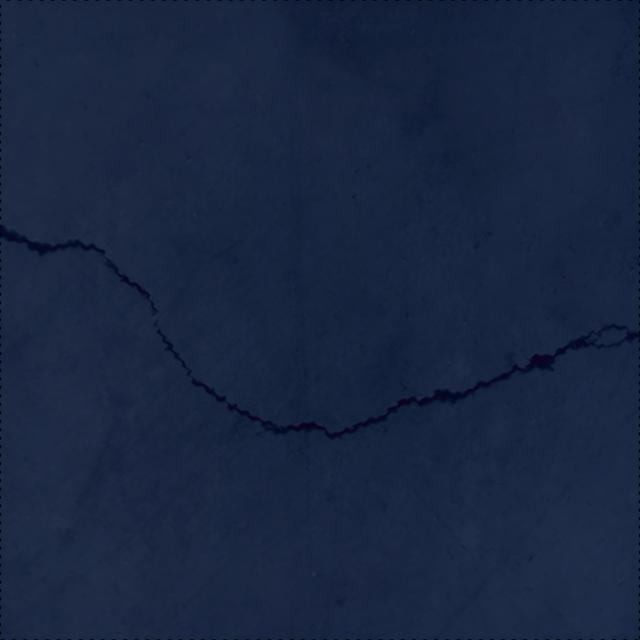crack: (0, 223, 640, 440)
